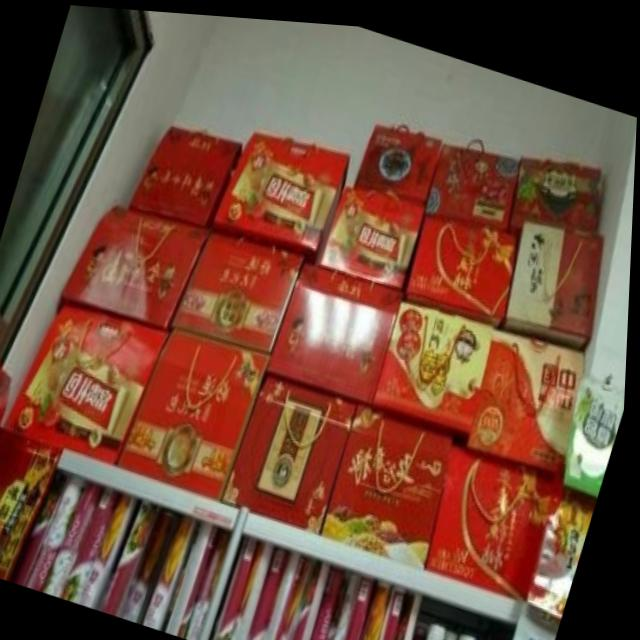box: (122, 324, 275, 495), (7, 304, 172, 462), (325, 397, 457, 560), (431, 434, 567, 592), (227, 371, 359, 528), (269, 258, 406, 398), (60, 202, 212, 327), (215, 126, 350, 261), (470, 321, 587, 468), (375, 295, 496, 435), (175, 227, 306, 348), (505, 212, 605, 342), (407, 208, 520, 320), (130, 122, 244, 223), (321, 179, 426, 281), (426, 136, 519, 220), (355, 117, 443, 200), (510, 147, 601, 226), (0, 360, 17, 435)
